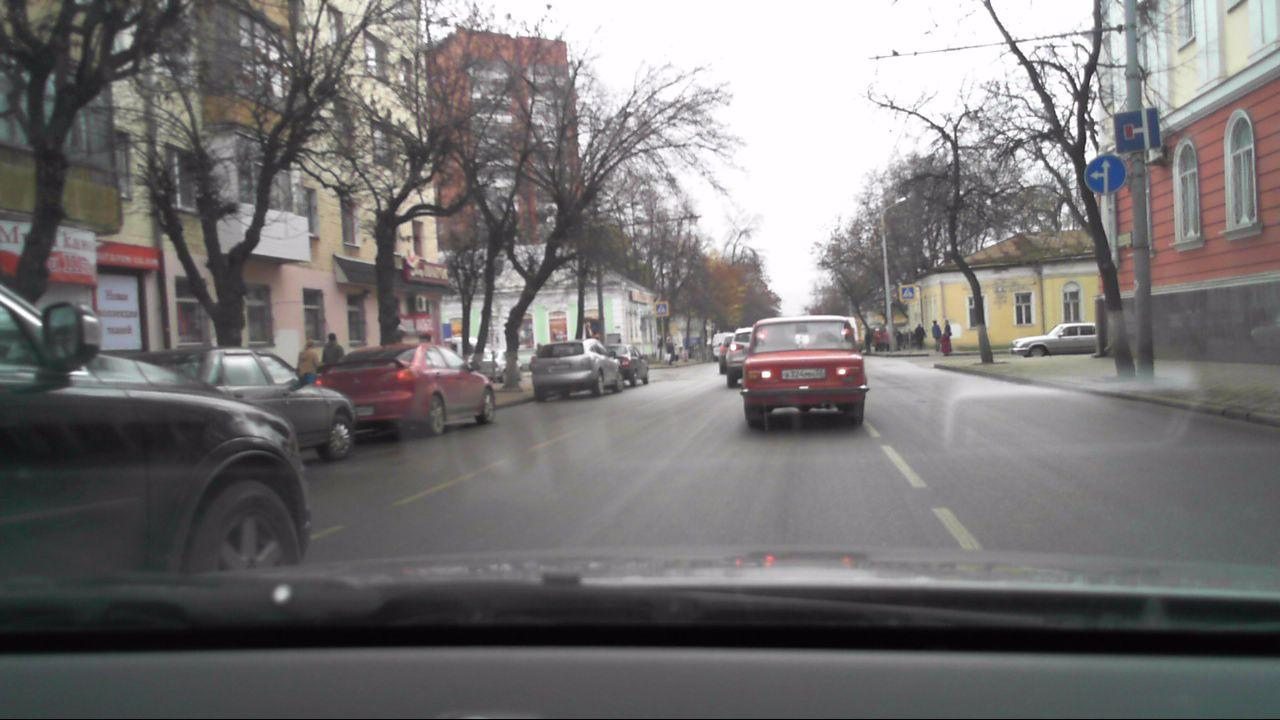4_1_5: (1083, 154, 1126, 195)
5_19_1: (901, 286, 915, 301)
5_19_2: (656, 302, 669, 315)
6_8_3: (1111, 106, 1157, 155)
